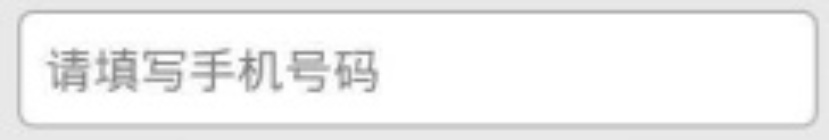EditText: (1, 1, 828, 139)
